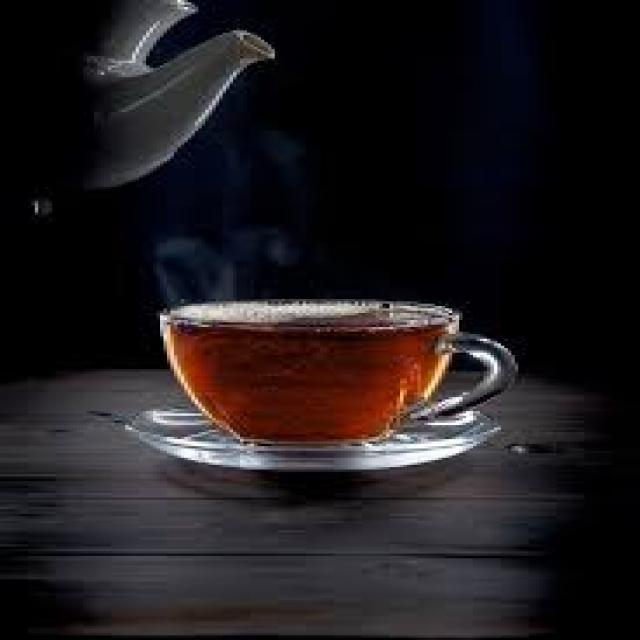taza: (144, 273, 528, 464)
